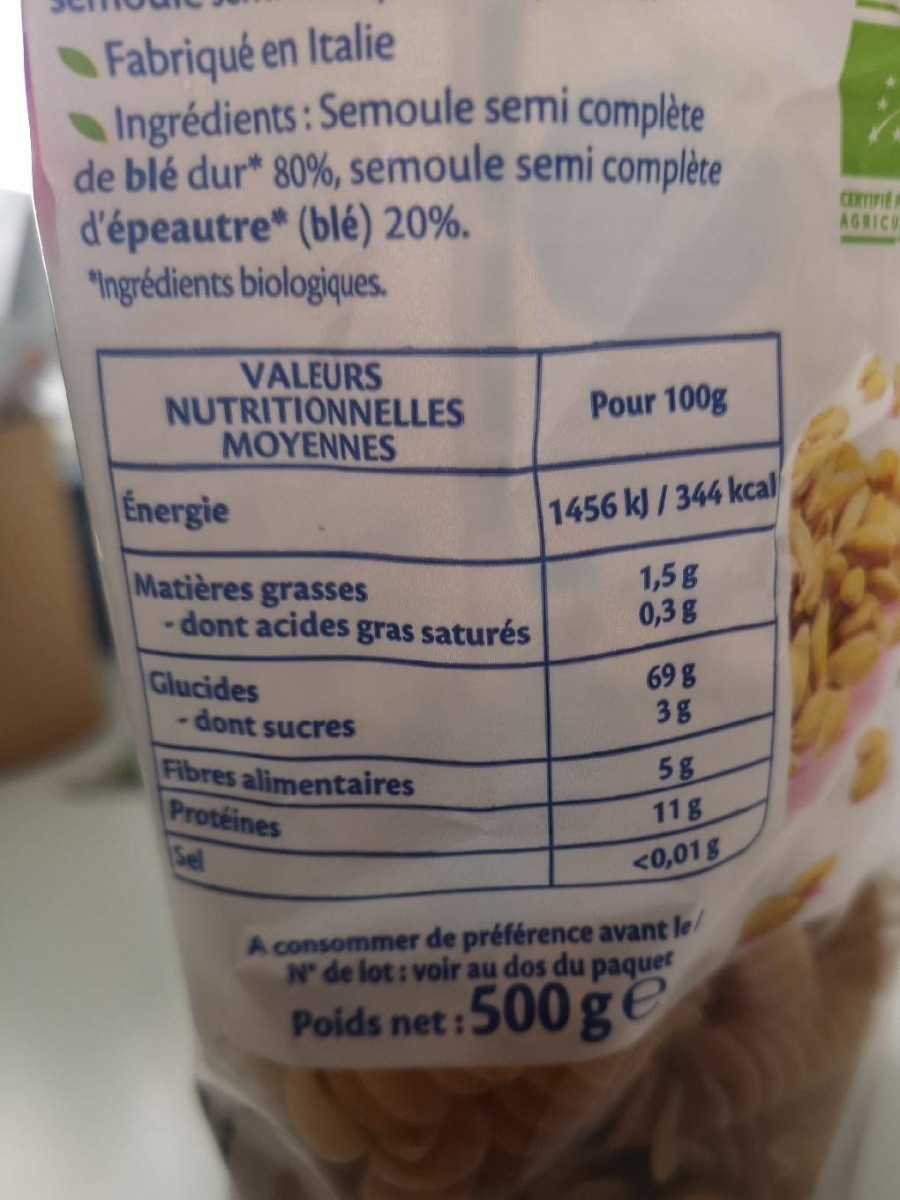column: (120, 358, 533, 878), (548, 390, 777, 875)
table: (96, 333, 784, 901)
